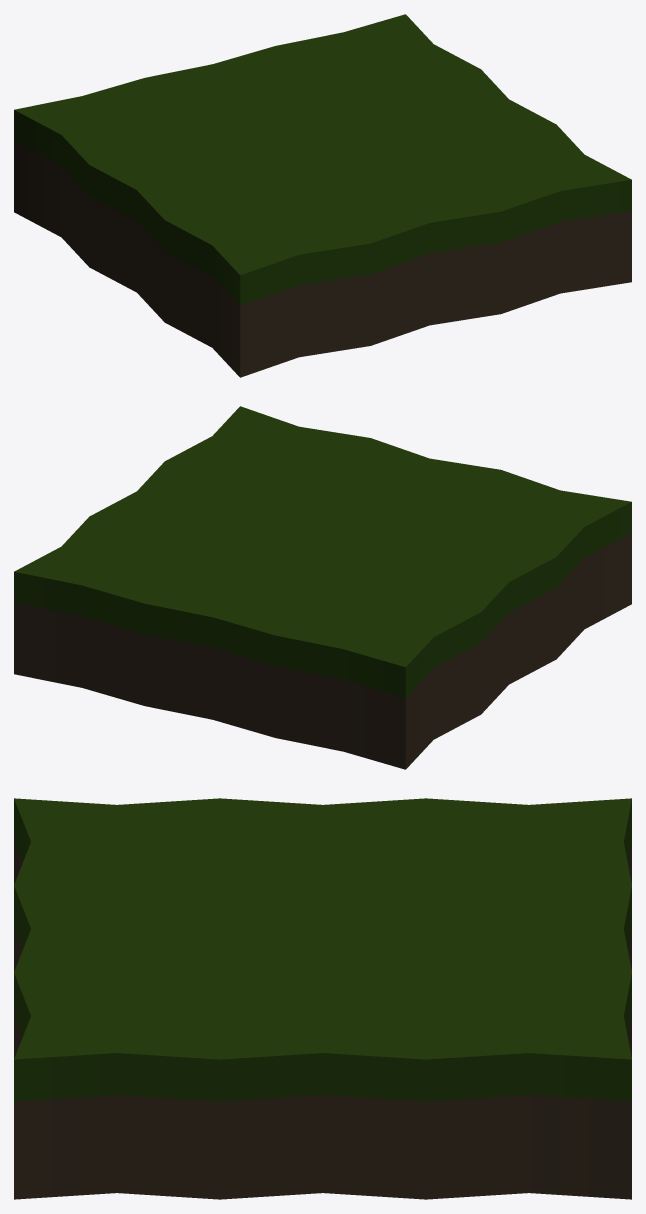
The model's file is jaggeredTile-05a_col.fbx.
3 views of the same model, one above another, from view 1: azimuth 30°, elevation 25°; view 2: azimuth 150°, elevation 25°; view 3: azimuth 270°, elevation 25° (orthographic). The views are drawn at different scales.
Parts seen in each view (by area): view 1: jaggeredTile-05a.col; view 2: jaggeredTile-05a.col; view 3: jaggeredTile-05a.col.
Boxes of the visible parts, bbox=[...] form: jaggeredTile-05a.col: bbox=[14, 14, 631, 377]; jaggeredTile-05a.col: bbox=[14, 406, 631, 769]; jaggeredTile-05a.col: bbox=[14, 798, 631, 1199].
Bounding box in the file's own units: 2 × 0.5 × 2.
1 material, 1 textured.
